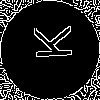K: (25, 25, 73, 61)
